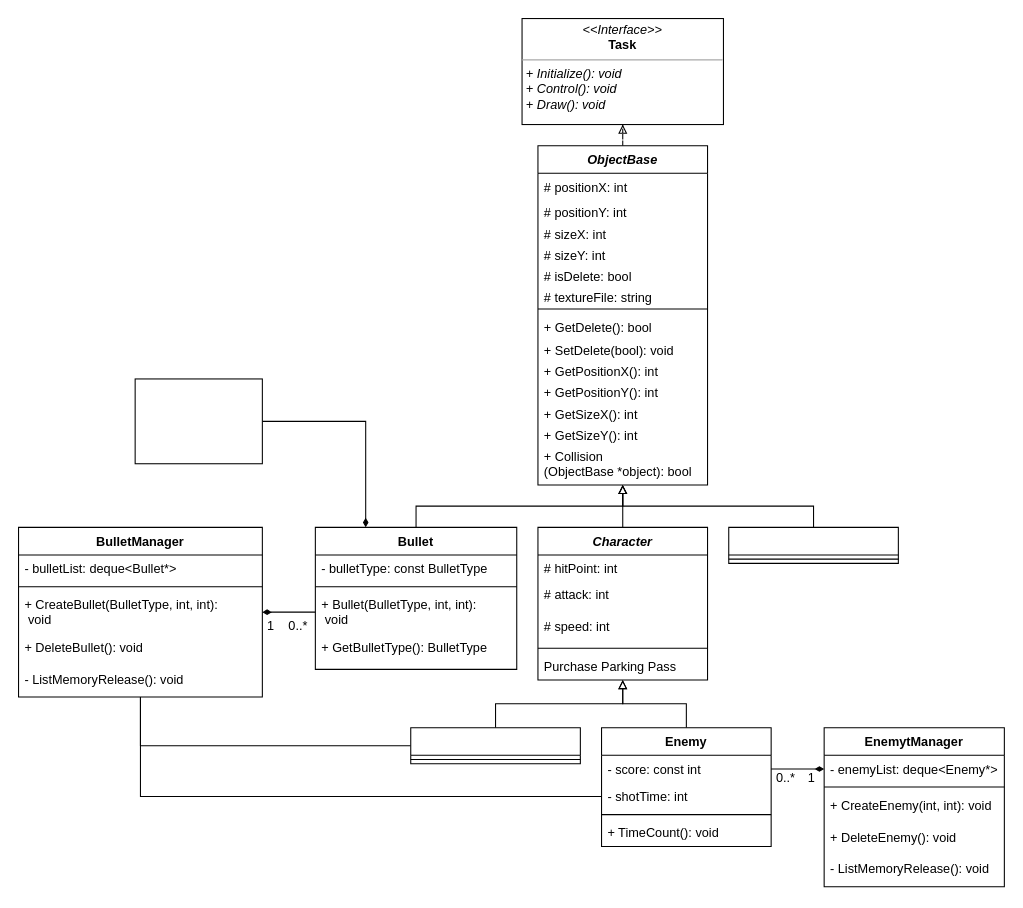
This 1023x908 diagram has some shape labels left out. The shapes that lost their labels are listed below. From the top down, each one's centre as x and y in pixels, then its label:
At pixel 198 421: "<<enumeration>> BulletType PLAYER ENEMY".
At pixel 813 544: "BackGround".
At pixel 495 745: "Player".
